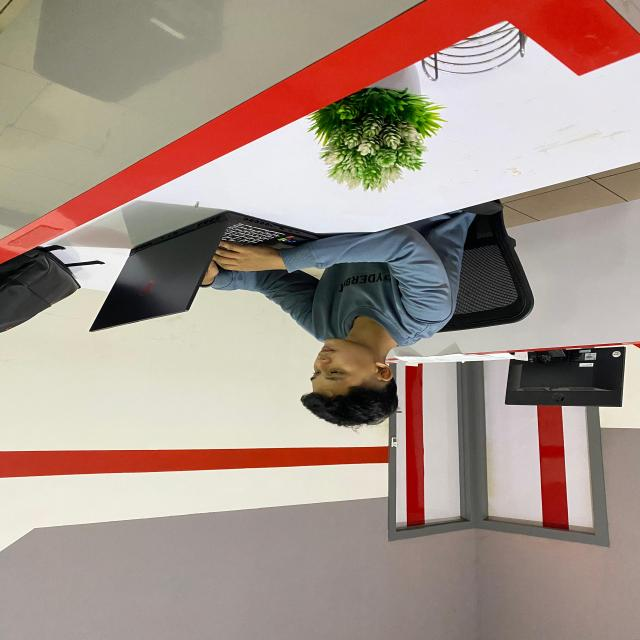nohelmet: (295, 338, 401, 434)
